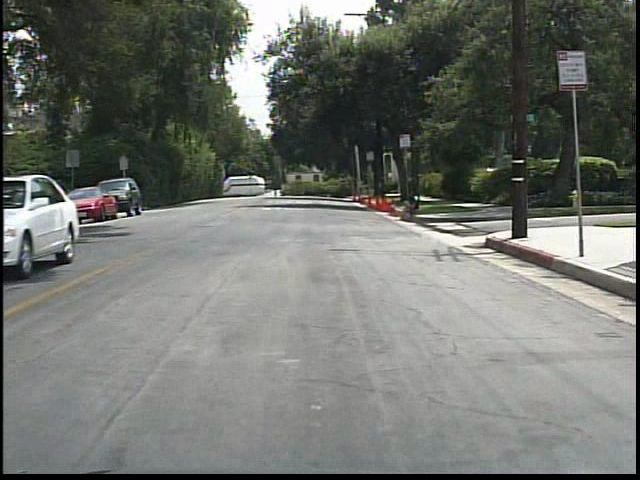person: (399, 191, 427, 222)
